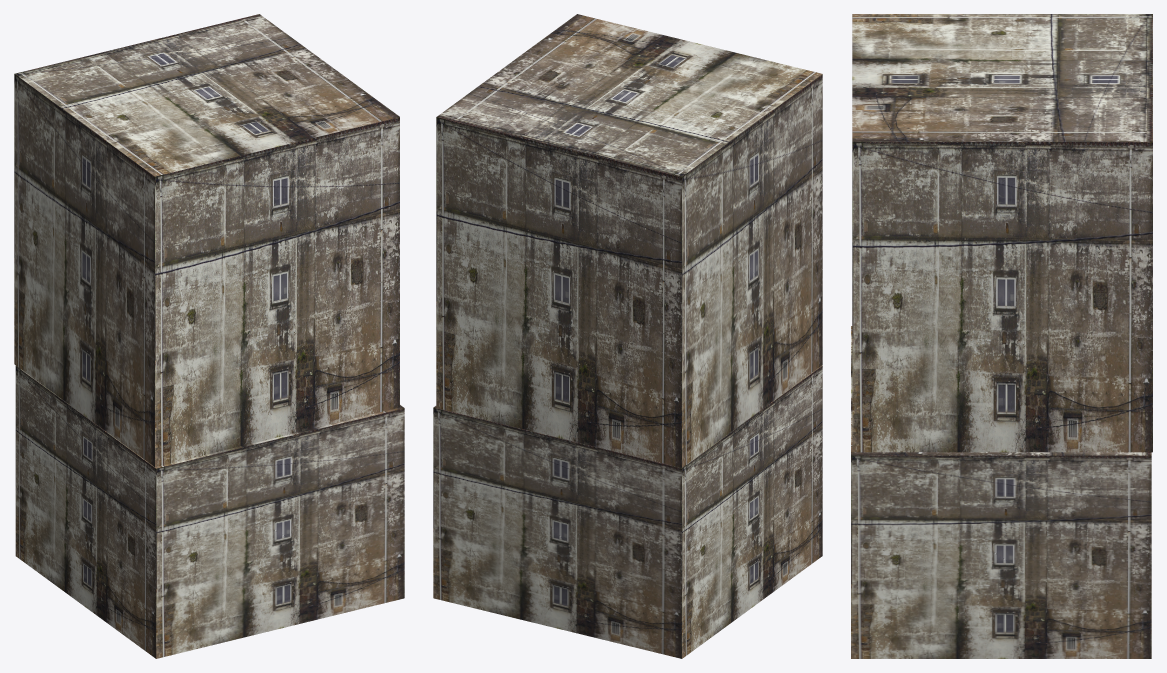
Rendered from BagBuilding21_0.fbx.
3 renders of one model, left to right at view 1: azimuth 30°, elevation 25°; view 2: azimuth 150°, elevation 25°; view 3: azimuth 270°, elevation 25°, orthographic. The views are drawn at different scales.
Parts seen in each view (by area): view 1: box0, boxb0; view 2: box0, boxb0; view 3: box0, boxb0.
Part boxes in pixels (x1=…): box0: x1=14, y1=14, x2=399, y2=466; boxb0: x1=15, y1=366, x2=404, y2=658; box0: x1=436, y1=14, x2=822, y2=467; boxb0: x1=433, y1=365, x2=822, y2=658; box0: x1=852, y1=14, x2=1152, y2=452; boxb0: x1=851, y1=326, x2=1151, y2=658.
Size of the model in its own units: 17.1 by 31.62 by 16.79.
